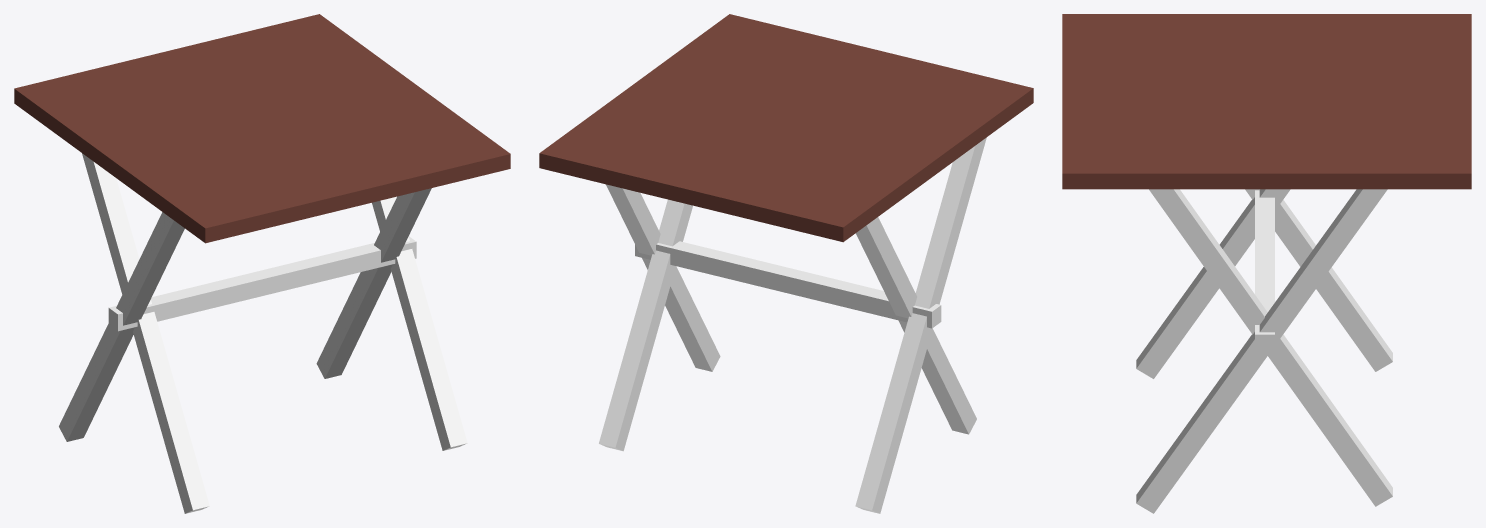
The picture shows the model from 3 angles, left to right: view 1: azimuth 30°, elevation 25°; view 2: azimuth 150°, elevation 25°; view 3: azimuth 270°, elevation 25°; orthographic projection. The views are drawn at different scales.
Parts seen in each view (by area): view 1: Cube_152; view 2: Cube_152; view 3: Cube_152.
Boxes of the visible parts, <box> form: Cube_152: <box>14,14,510,513</box>; Cube_152: <box>539,14,1033,513</box>; Cube_152: <box>1062,14,1471,513</box>.
Bounding box in the file's own units: 0.973 × 0.9821 × 1.05.
1 material, 1 textured.
